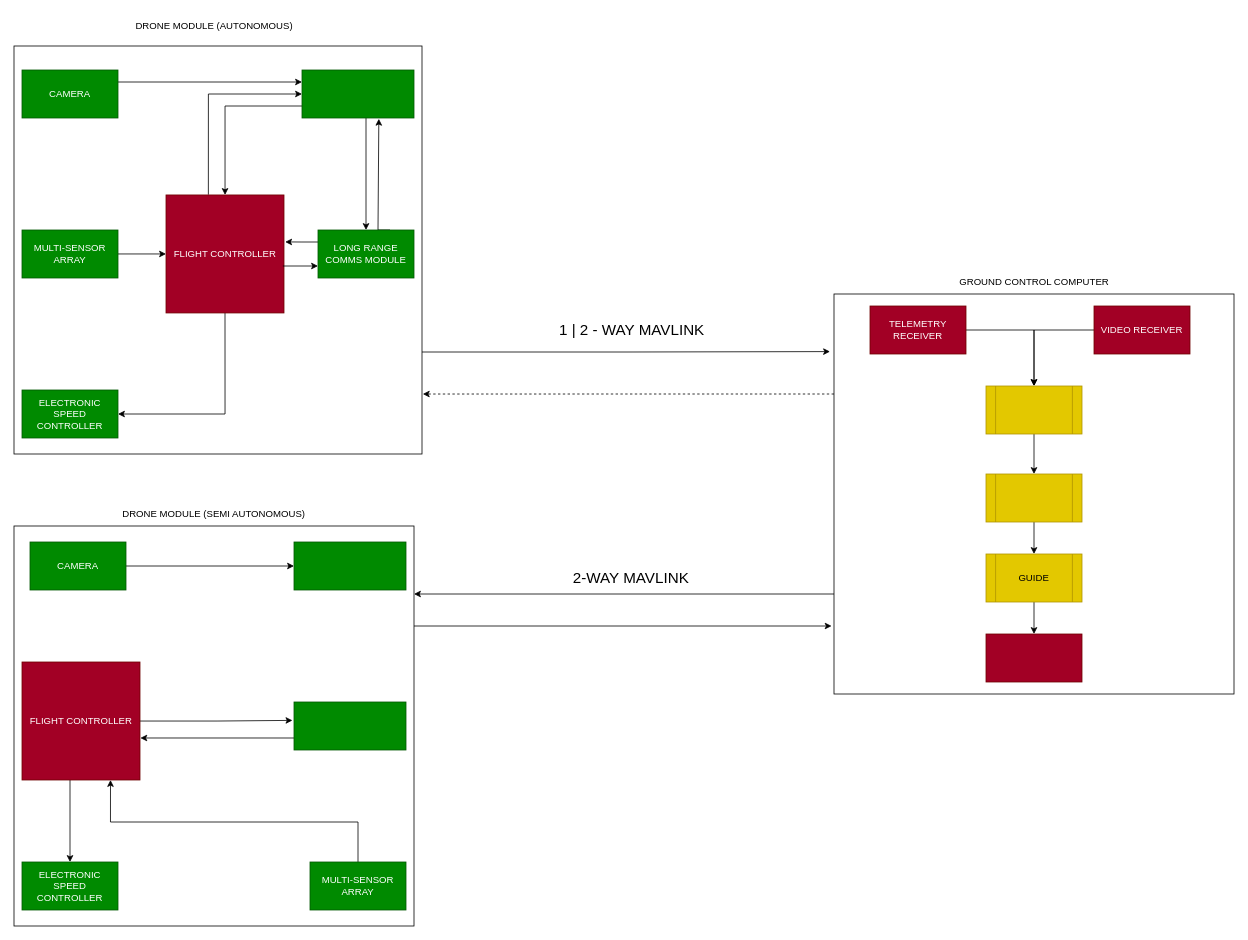
This 1248x940 diagram has some shape labels left out. Here are the shapes that lost their labels. From the top down, the box of each, then its label:
(301, 69, 414, 118): MICROPROCESSOR
(985, 385, 1082, 434): DETECTION
(985, 473, 1082, 522): TRACK
(293, 541, 406, 590): VIDEO TRANSMITTER
(985, 633, 1082, 682): TRANSMITTER
(293, 701, 406, 750): RADIO TELEMTRY MODULE
